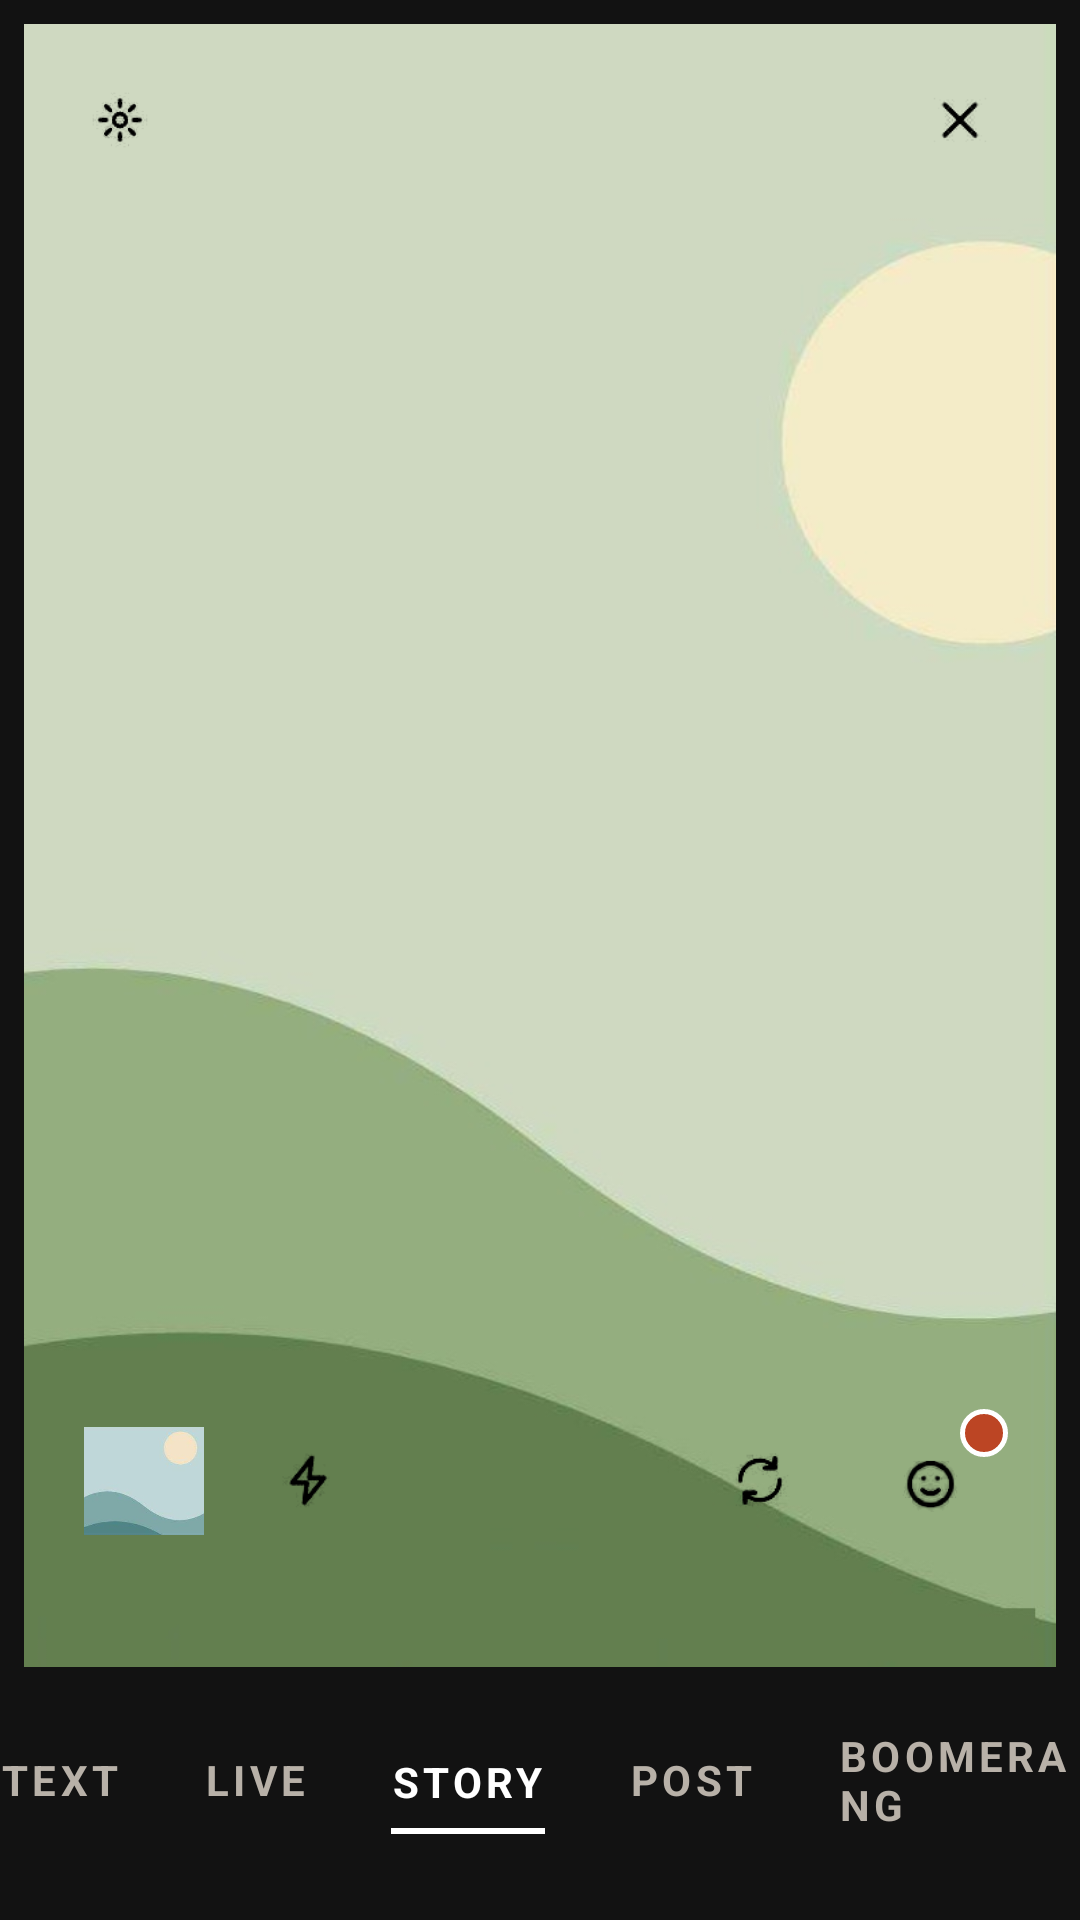

Screen size 1080 × 1920. Icon name, then its box in pixels as (left=x1, top=y1, right=x2, bottom=y2):
Brightness: (left=97, top=98, right=143, bottom=142)
Close camera: (left=942, top=102, right=978, bottom=138)
Effects: (left=907, top=1461, right=955, bottom=1509)
Flash: (left=289, top=1455, right=327, bottom=1506)
Gallery: (left=84, top=1427, right=204, bottom=1535)
